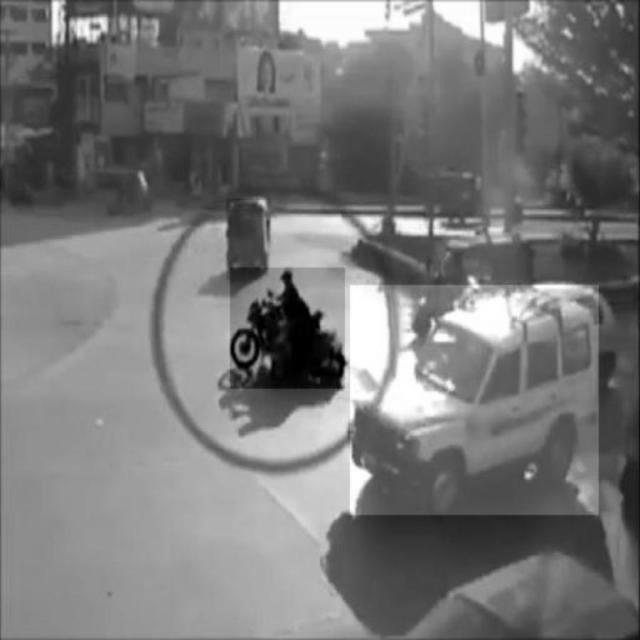accident: (230, 268, 346, 389)
vehicle: (351, 284, 599, 515), (226, 199, 270, 280)
